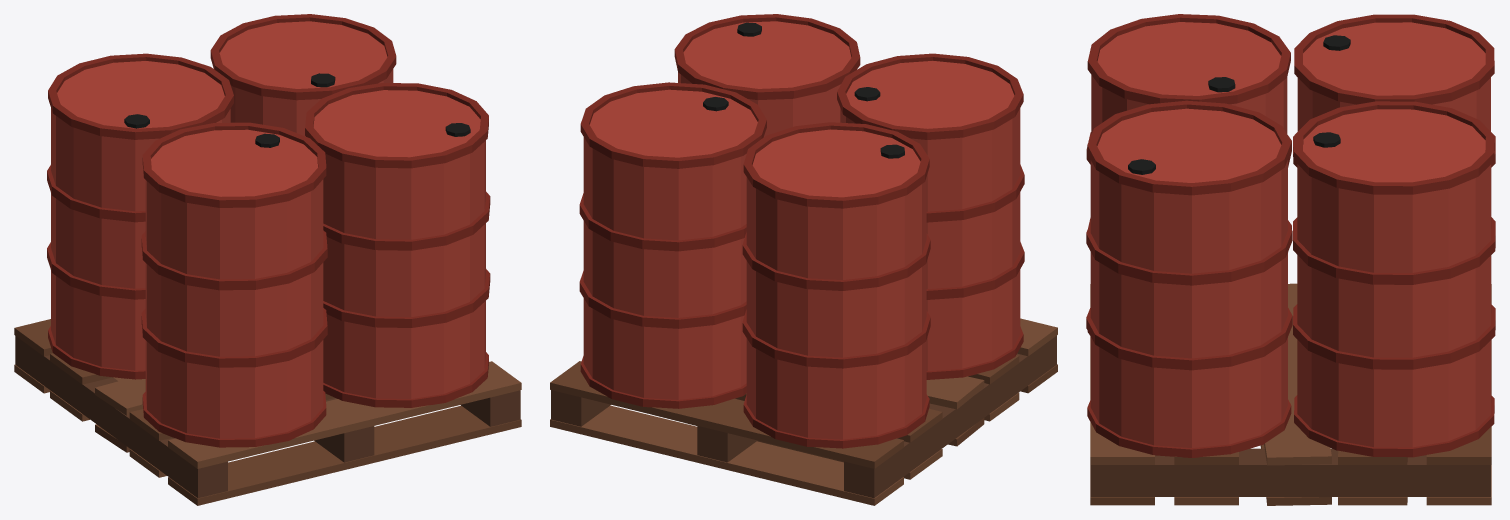
The model's file is SM_Props_Pallet_03.glb.
The picture shows the model from 3 angles, left to right: view 1: azimuth 30°, elevation 25°; view 2: azimuth 150°, elevation 25°; view 3: azimuth 270°, elevation 25°; orthographic projection. The views are drawn at different scales.
Visible parts, largest first — view 1: SM_Props_Pallet_03; view 2: SM_Props_Pallet_03; view 3: SM_Props_Pallet_03.
Boxes of the visible parts, x1,y1,x2,y2 form: SM_Props_Pallet_03: (14, 14, 521, 505); SM_Props_Pallet_03: (550, 14, 1057, 505); SM_Props_Pallet_03: (1086, 14, 1495, 505).
Bounding box in the file's own units: 1.22 × 1.04 × 1.2.
Materials: 1 (1 with a texture image).
